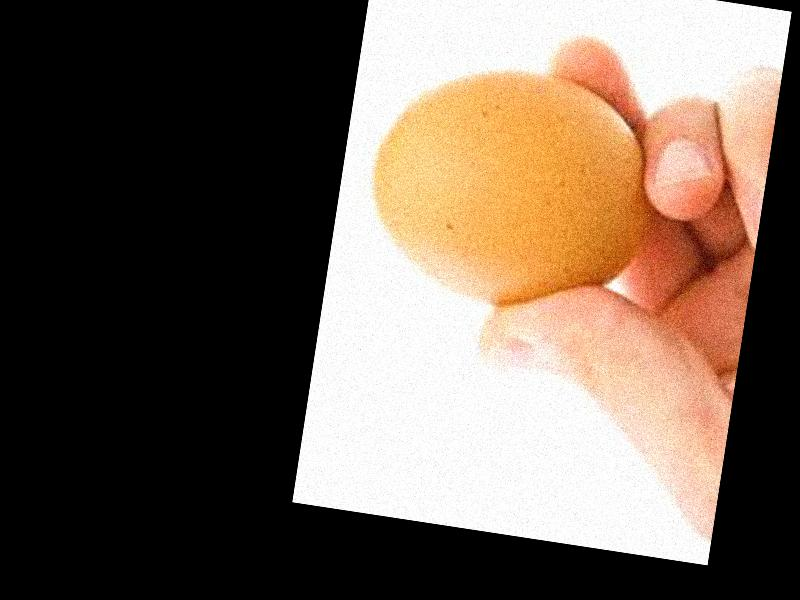Eggs: (354, 50, 660, 325)
